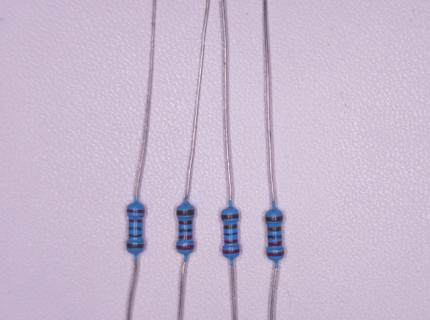Black band: (223, 232, 238, 236), (129, 226, 143, 230), (268, 235, 282, 239), (179, 228, 193, 232)
Brown band: (265, 216, 283, 223), (177, 210, 195, 216), (221, 214, 239, 220), (127, 244, 144, 249), (267, 227, 282, 232), (224, 225, 238, 229), (129, 234, 143, 238), (179, 221, 192, 225)
Red band: (267, 251, 285, 257), (176, 245, 195, 250), (127, 209, 145, 214), (222, 249, 240, 254), (224, 239, 239, 244), (179, 235, 193, 240), (268, 242, 282, 247), (129, 219, 143, 223)
